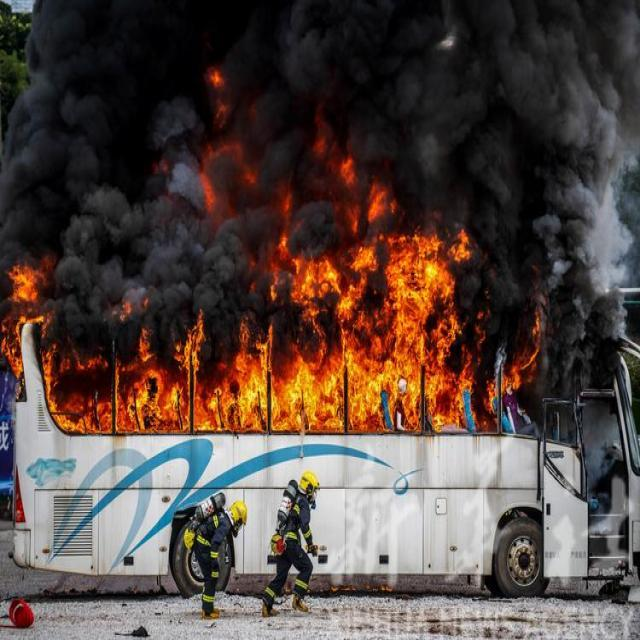Fire: (271, 232, 472, 433), (52, 343, 266, 439), (0, 261, 45, 375)
Smoke: (1, 0, 640, 228), (473, 226, 627, 388), (55, 228, 242, 344)
